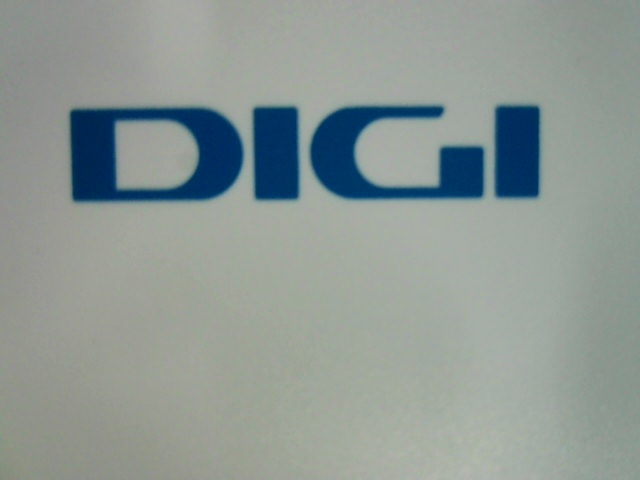BL_DIGI: (54, 76, 560, 212)
